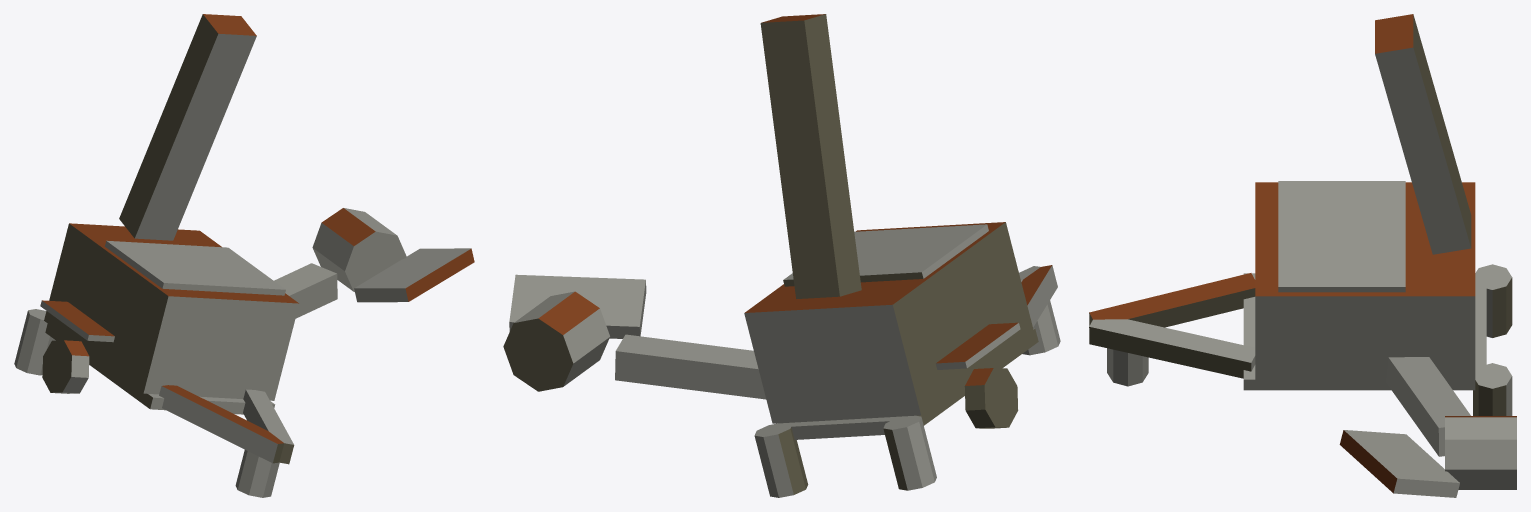
File: SM_Radar_v4_Destruido_LOD1.fbx
3 views of the same model, side by side, from view 1: azimuth 30°, elevation 25°; view 2: azimuth 150°, elevation 25°; view 3: azimuth 270°, elevation 25° (orthographic). The views are drawn at different scales.
Visible parts, largest first — view 1: SM_bloques.radar_v4_LOD1; view 2: SM_bloques.radar_v4_LOD1; view 3: SM_bloques.radar_v4_LOD1.
Part boxes in pixels (x1,y1,x2,y2): SM_bloques.radar_v4_LOD1: (14,14,474,497); SM_bloques.radar_v4_LOD1: (503,14,1060,497); SM_bloques.radar_v4_LOD1: (1089,14,1516,497).
Size of the model in its own units: 4.73 by 4.07 by 3.69.
